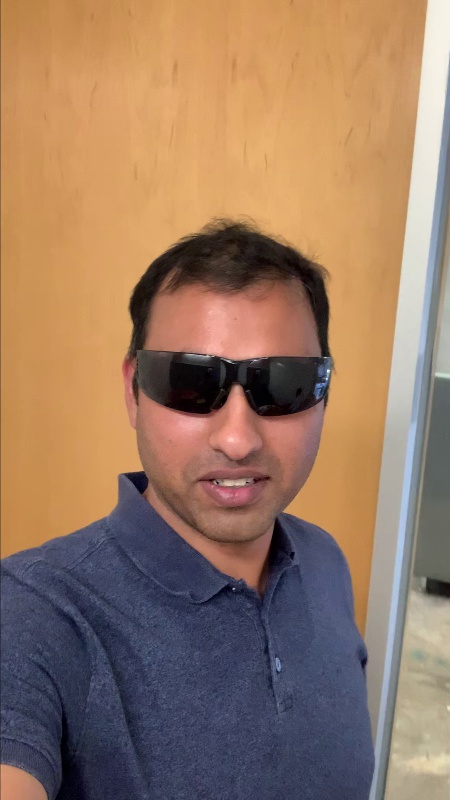glasses: (120, 334, 351, 421)
